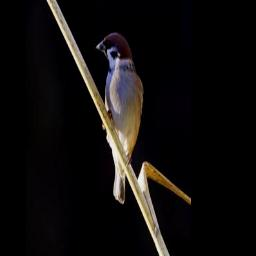Sparrow: (95, 30, 145, 205)
